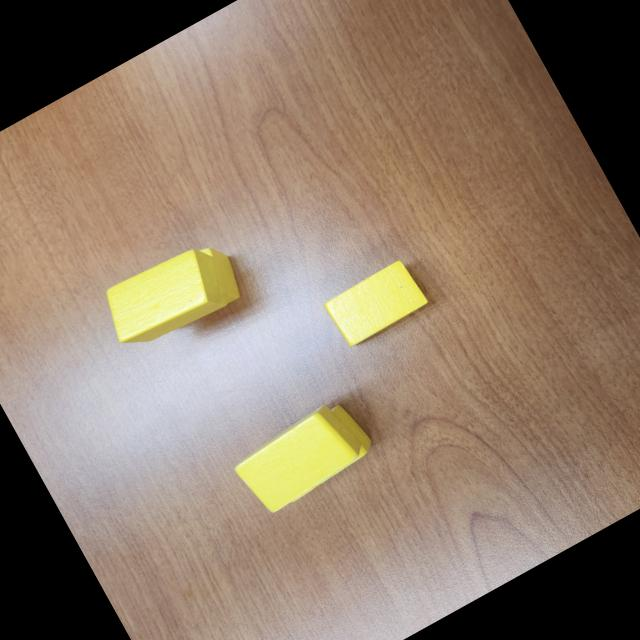yellow: (92, 236, 238, 361), (227, 396, 371, 520), (258, 398, 380, 505), (140, 237, 251, 337), (319, 255, 431, 350)
